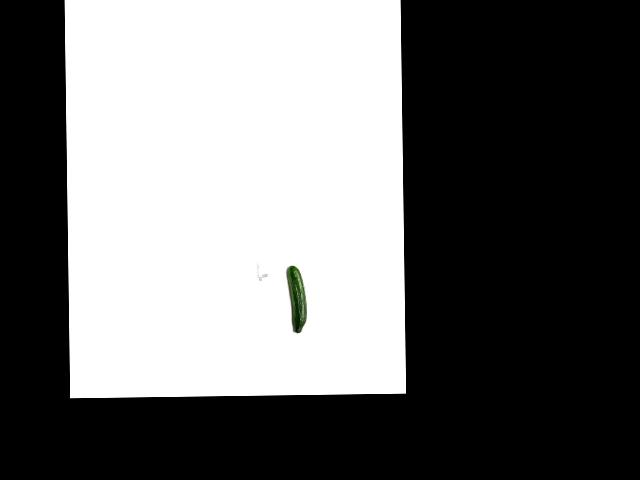cucumber: (286, 264, 306, 333)
